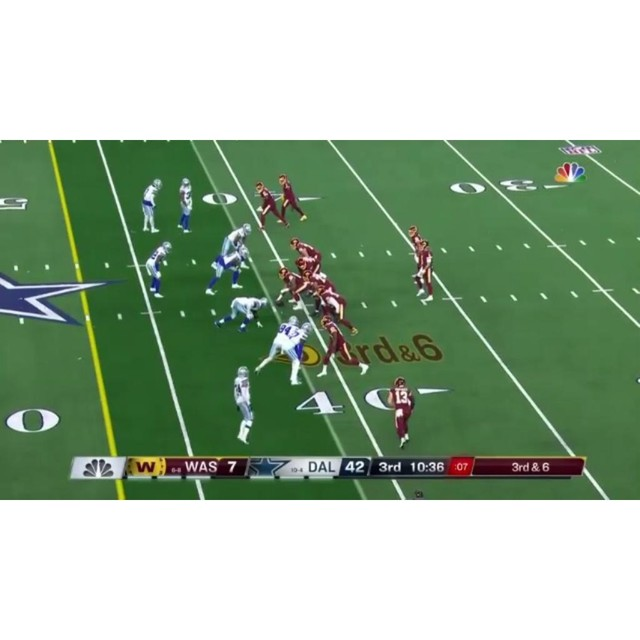american-football-player: (318, 315, 370, 378), (255, 315, 302, 378), (314, 283, 358, 335), (205, 245, 250, 295), (388, 378, 415, 449), (214, 296, 267, 332), (233, 366, 255, 444), (255, 181, 288, 230), (412, 237, 435, 304), (145, 241, 172, 297), (278, 173, 308, 223), (276, 266, 308, 309), (141, 178, 163, 233), (219, 223, 252, 259), (178, 177, 194, 233), (290, 238, 321, 262), (295, 255, 321, 277)
